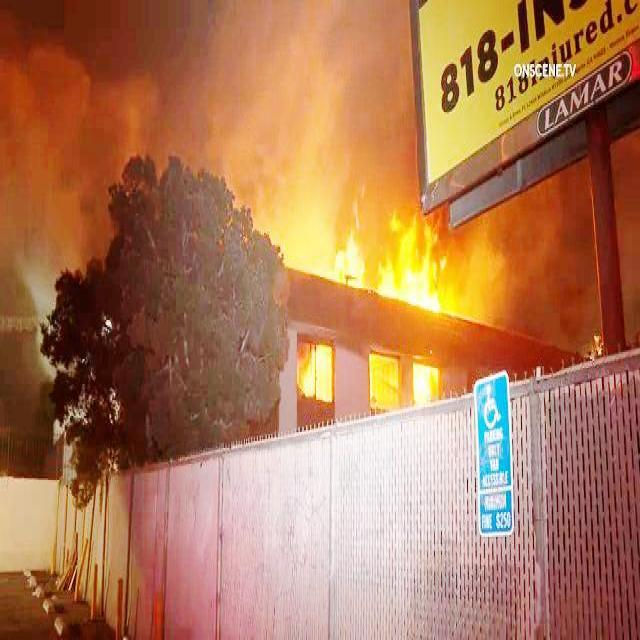Fire: (388, 223, 454, 312), (335, 218, 375, 288), (304, 345, 341, 403), (368, 350, 402, 412), (412, 359, 440, 404)
Smoke: (1, 7, 116, 264), (242, 0, 404, 172), (119, 0, 244, 147), (463, 228, 591, 325)
